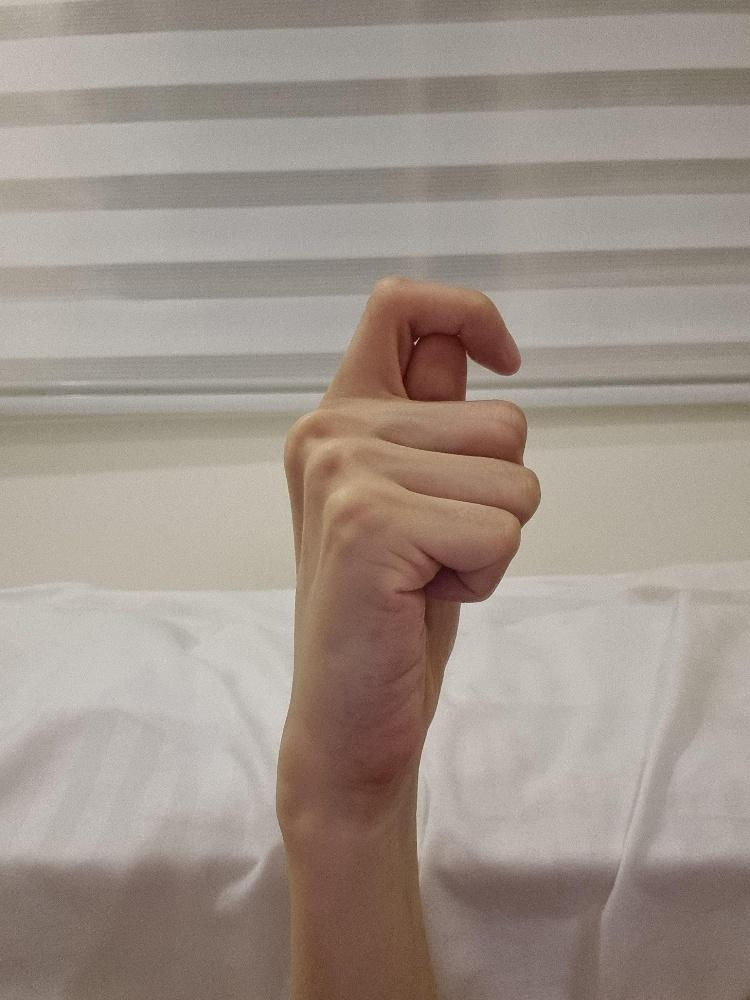t: (276, 274, 544, 817)
